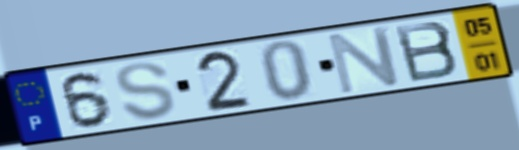0: (258, 37, 319, 104)
2: (193, 48, 256, 116)
6: (59, 69, 116, 130)
B: (391, 19, 463, 85)
N: (324, 23, 404, 97)
S: (113, 60, 179, 122)
